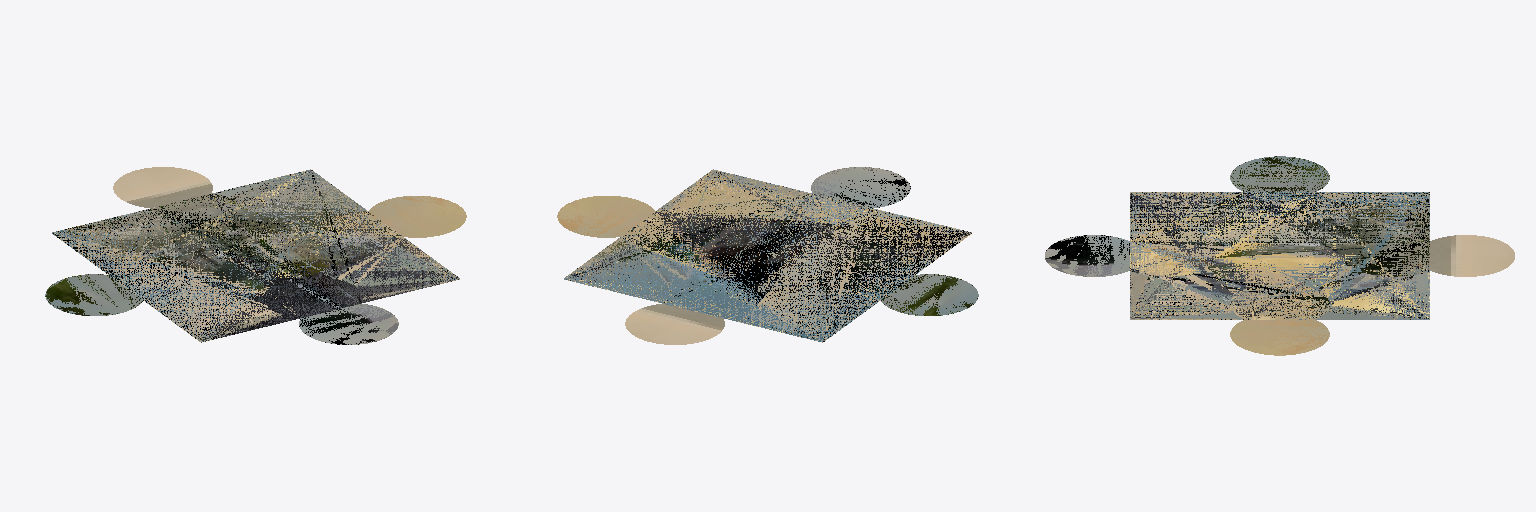
The picture shows the model from 3 angles: view 1: azimuth 30°, elevation 25°; view 2: azimuth 150°, elevation 25°; view 3: azimuth 270°, elevation 25°; orthographic projection.
Parts seen in each view (by area): view 1: 004, 002, 001, 010, 003, 014, 020, 011, 025, 005, 092, 070 (+2 smaller); view 2: 002, 001, 010, 003, 004, 011, 005, 091, 012, 016, 025, 070; view 3: 002, 004, 001, 003, 005, 011, 021, 062, 025, 092, 014, 006 (+6 smaller).
Part boxes in pixels (bbox=[...]): 004: bbox=[54, 167, 400, 291]; 002: bbox=[54, 171, 466, 341]; 001: bbox=[52, 170, 458, 344]; 010: bbox=[58, 209, 457, 340]; 003: bbox=[54, 196, 465, 340]; 014: bbox=[63, 210, 398, 277]; 020: bbox=[183, 246, 451, 341]; 011: bbox=[45, 171, 397, 337]; 025: bbox=[45, 196, 400, 340]; 005: bbox=[53, 194, 401, 344]; 092: bbox=[235, 185, 458, 286]; 070: bbox=[168, 238, 452, 342]; 002: bbox=[557, 170, 970, 341]; 001: bbox=[565, 167, 969, 341]; 010: bbox=[656, 173, 971, 341]; 003: bbox=[558, 169, 969, 340]; 004: bbox=[568, 211, 836, 344]; 011: bbox=[569, 194, 978, 340]; 005: bbox=[620, 167, 965, 341]; 091: bbox=[564, 172, 827, 337]; 012: bbox=[622, 209, 970, 339]; 016: bbox=[623, 194, 823, 340]; 025: bbox=[629, 212, 977, 315]; 070: bbox=[659, 172, 964, 277]; 002: bbox=[1130, 192, 1429, 355]; 004: bbox=[1203, 196, 1514, 319]; 001: bbox=[1045, 192, 1429, 319]; 003: bbox=[1130, 192, 1429, 354]; 005: bbox=[1045, 192, 1429, 319]; 011: bbox=[1130, 156, 1429, 319]; 021: bbox=[1133, 193, 1429, 317]; 062: bbox=[1215, 193, 1343, 312]; 025: bbox=[1140, 156, 1429, 317]; 092: bbox=[1132, 268, 1418, 319]; 014: bbox=[1209, 193, 1429, 316]; 006: bbox=[1132, 268, 1426, 318].
Bounding box in the file's own units: 47.01 × 0 × 47.01.
1 materials, 1 textured.